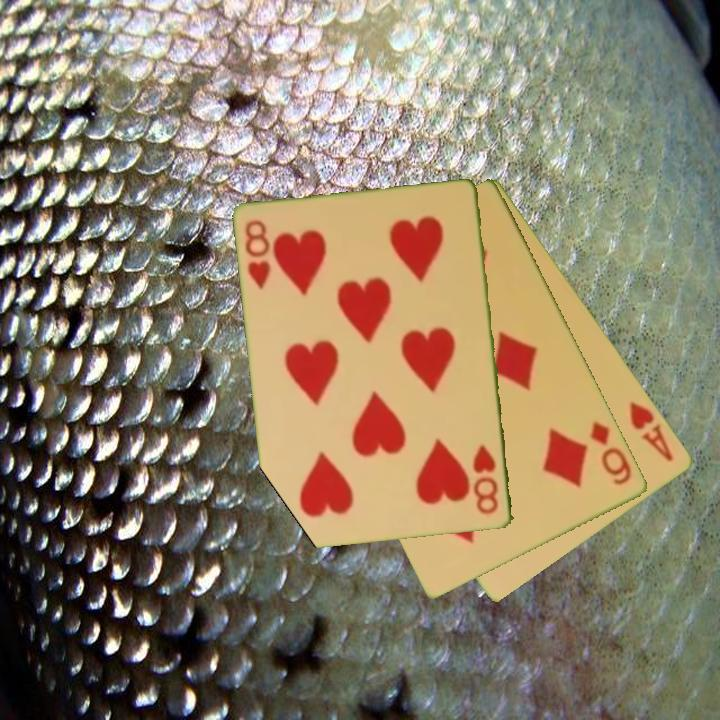6d: (587, 417, 635, 489)
8h: (470, 442, 502, 518), (242, 217, 274, 293)
Ah: (626, 397, 677, 464)
